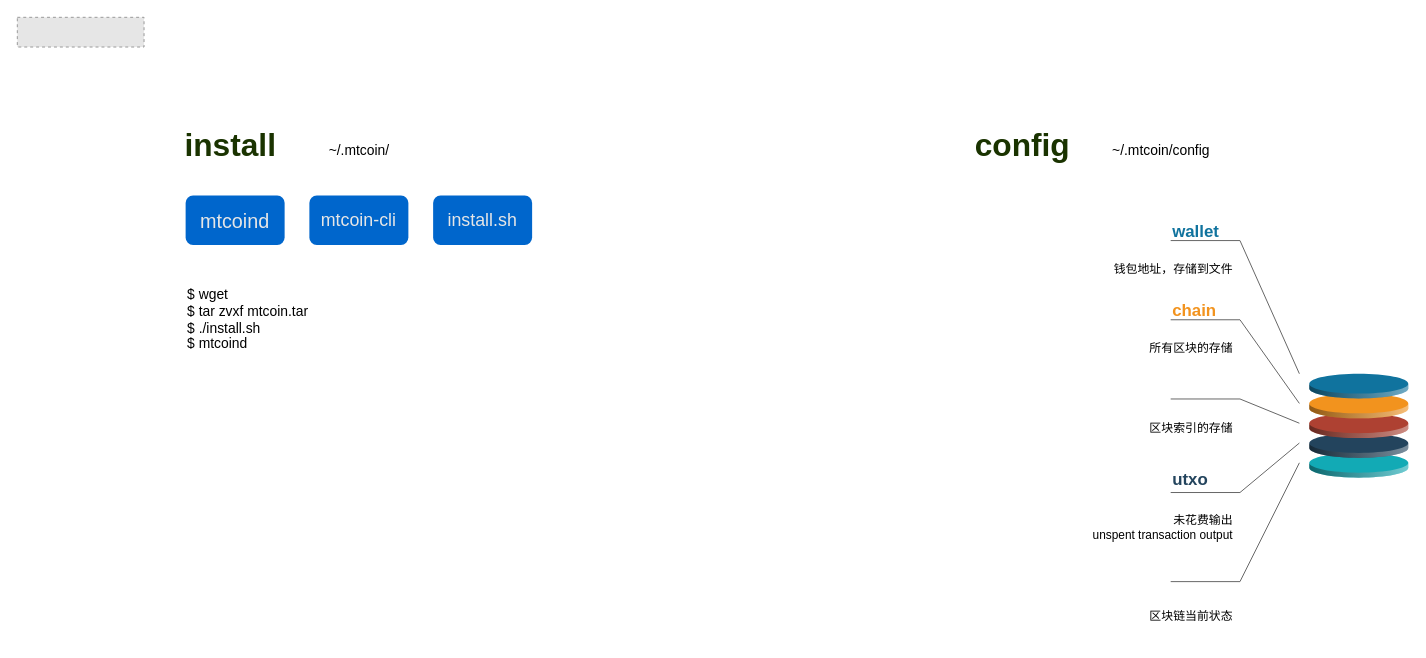
The diagram is 1426 pixels wide and 658 high, and some of its shapes have lost their labels. Grey dashed boxes stand in for pictures. Each missing label, with the centre of its shape:
index: [1234,398]
status: [1234,522]
